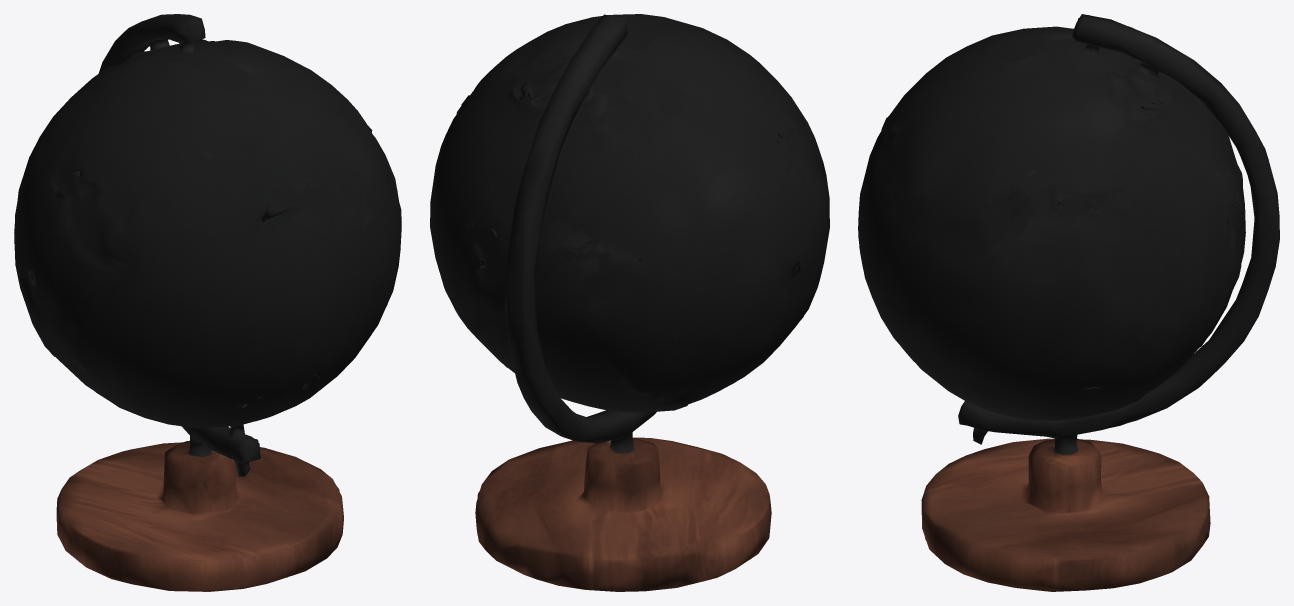
Rendered from facultyoffice_Globe.glb.
3 views of the same model, side by side, from view 1: azimuth 30°, elevation 25°; view 2: azimuth 150°, elevation 25°; view 3: azimuth 270°, elevation 25° (orthographic). The views are drawn at different scales.
Visible parts, largest first — view 1: world; view 2: world; view 3: world.
Boxes of the visible parts, x1,y1,x2,y2 form: world: (14, 14, 401, 591); world: (430, 14, 829, 591); world: (858, 14, 1279, 591).
Bounding box in the file's own units: 0.699 × 1 × 0.7413.
Materials: 1 (1 with a texture image).
